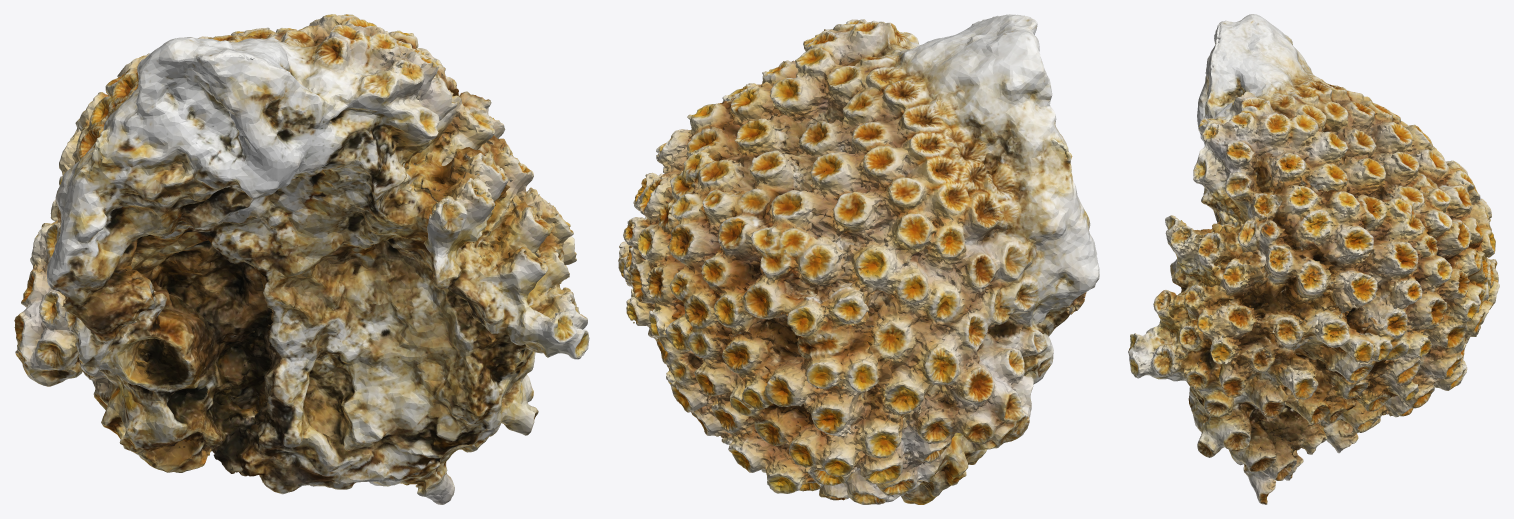
The model's file is MZUR3D-027.glb.
3 views of the same model, side by side, from view 1: azimuth 30°, elevation 25°; view 2: azimuth 150°, elevation 25°; view 3: azimuth 270°, elevation 25° (orthographic). The views are drawn at different scales.
Parts seen in each view (by area): view 1: MZUR3D-027; view 2: MZUR3D-027; view 3: MZUR3D-027.
Boxes of the visible parts, x1,y1,x2,y2 form: MZUR3D-027: [14, 14, 589, 504]; MZUR3D-027: [618, 14, 1099, 504]; MZUR3D-027: [1128, 14, 1499, 504].
Bounding box in the file's own units: 1.68 × 1.8 × 1.55.
1 material, 1 textured.
